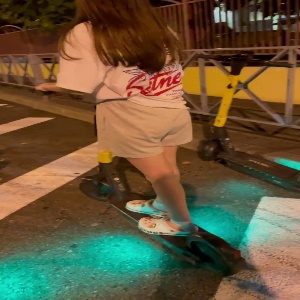human on a scooter: (29, 1, 248, 278)
